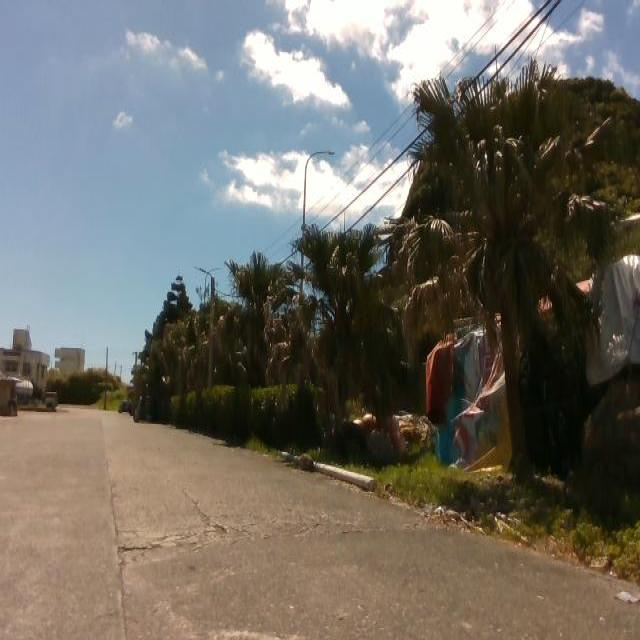pollute: (274, 249, 638, 495)
